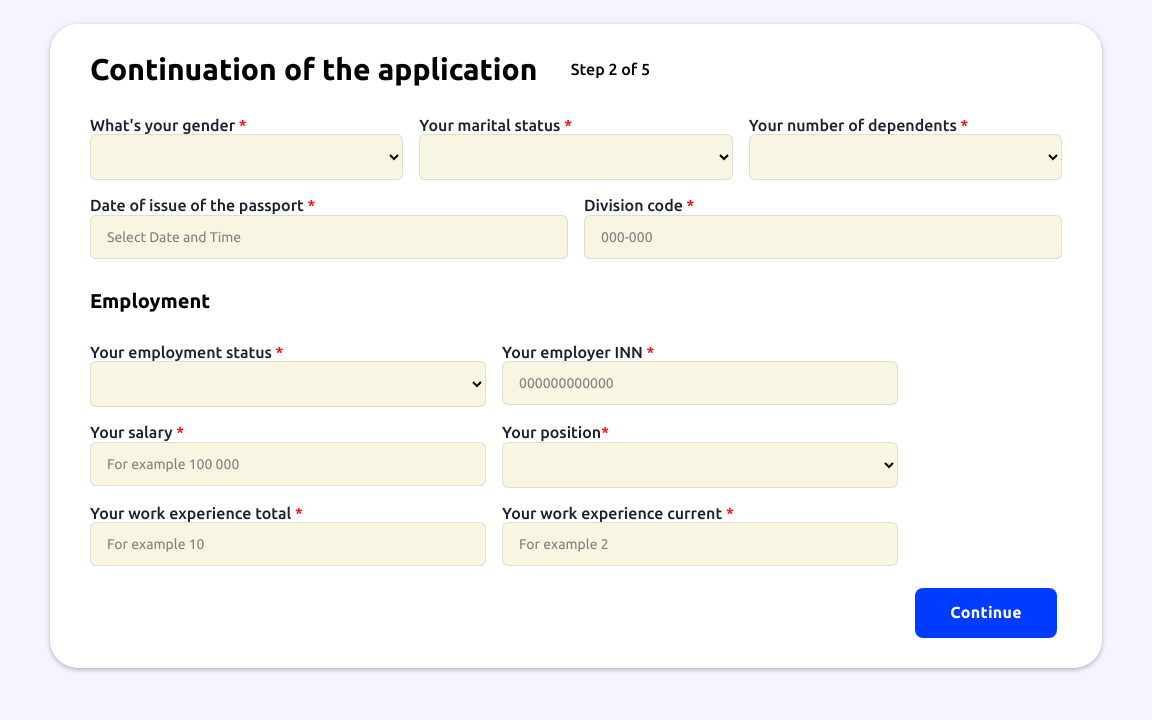
it: Компонент Application › показывает ошибки при отправке пустой формы
Click the button "Continue" at (986, 613), box x1=915 y1=588 x2=1057 y2=638
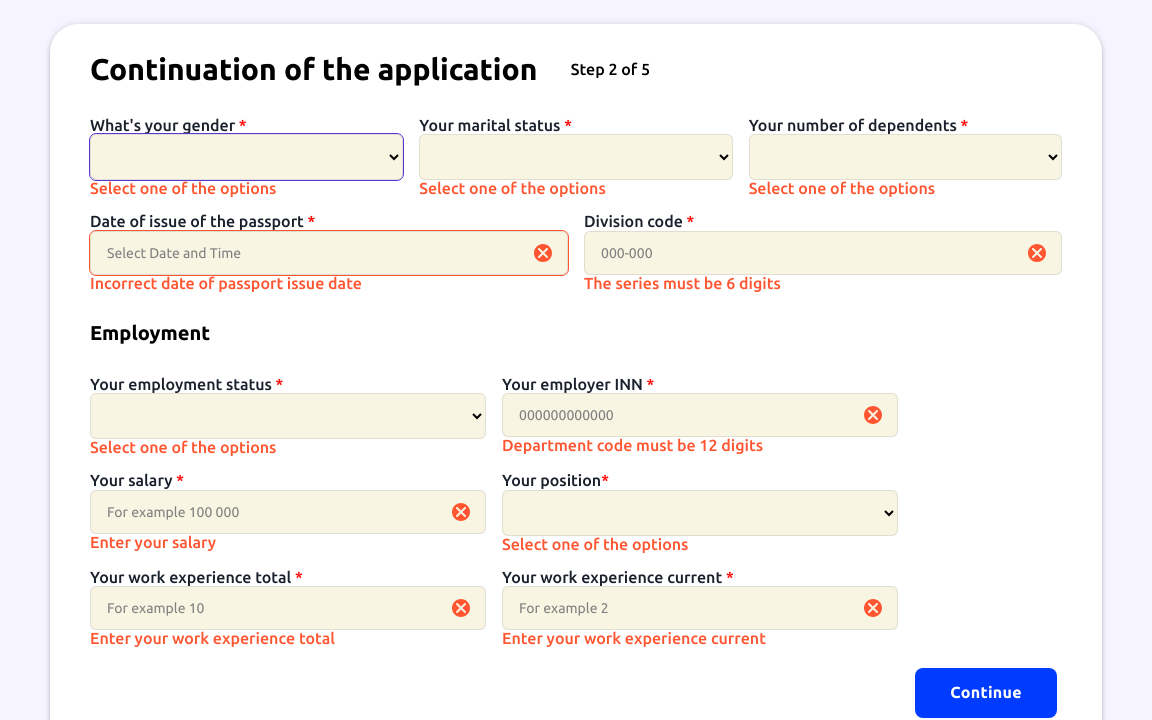
Expected: the text "Enter your salary" is shown, x1=90 y1=533 x2=216 y2=551
Expected: the text "Enter your work experience total" is shown, x1=90 y1=629 x2=335 y2=647
Expected: the text "Enter your work experience current" is shown, x1=502 y1=629 x2=766 y2=647
